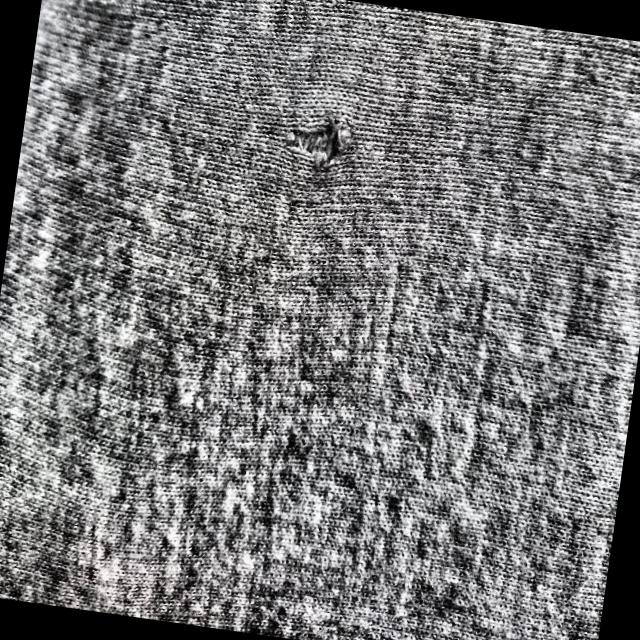cut: (272, 106, 360, 182)
